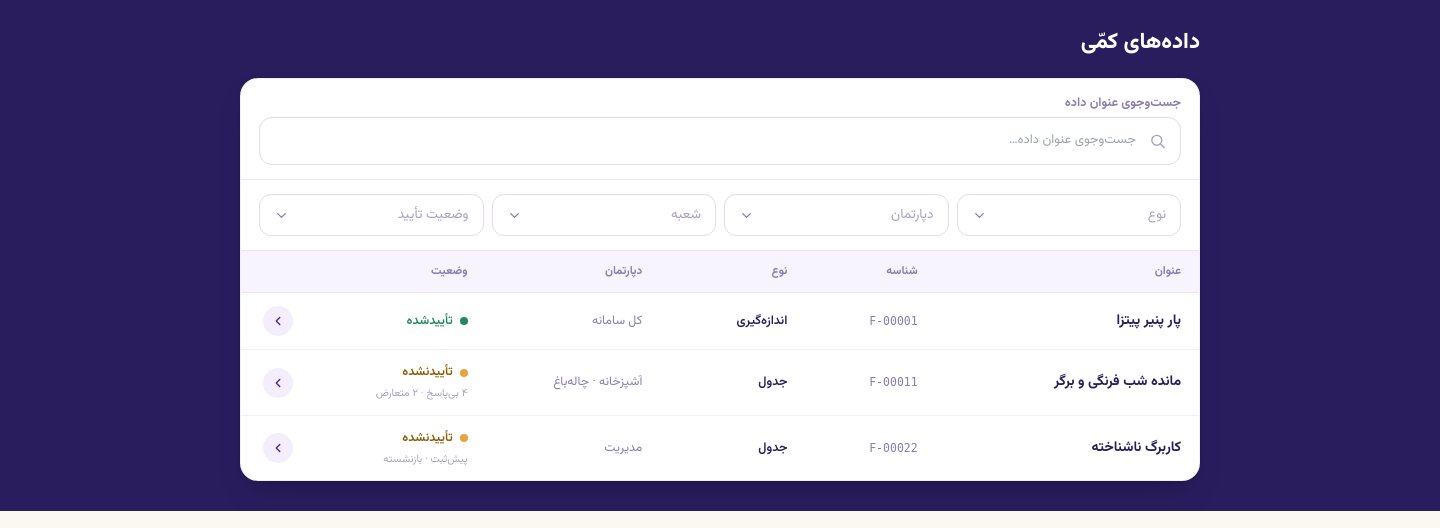
Test: the filters › offers exactly the two confirmation values
The width and height of the screenshot is (1440, 528).
Click the button "وضعیت تأیید" at (371, 215), box [259,194,484,236]
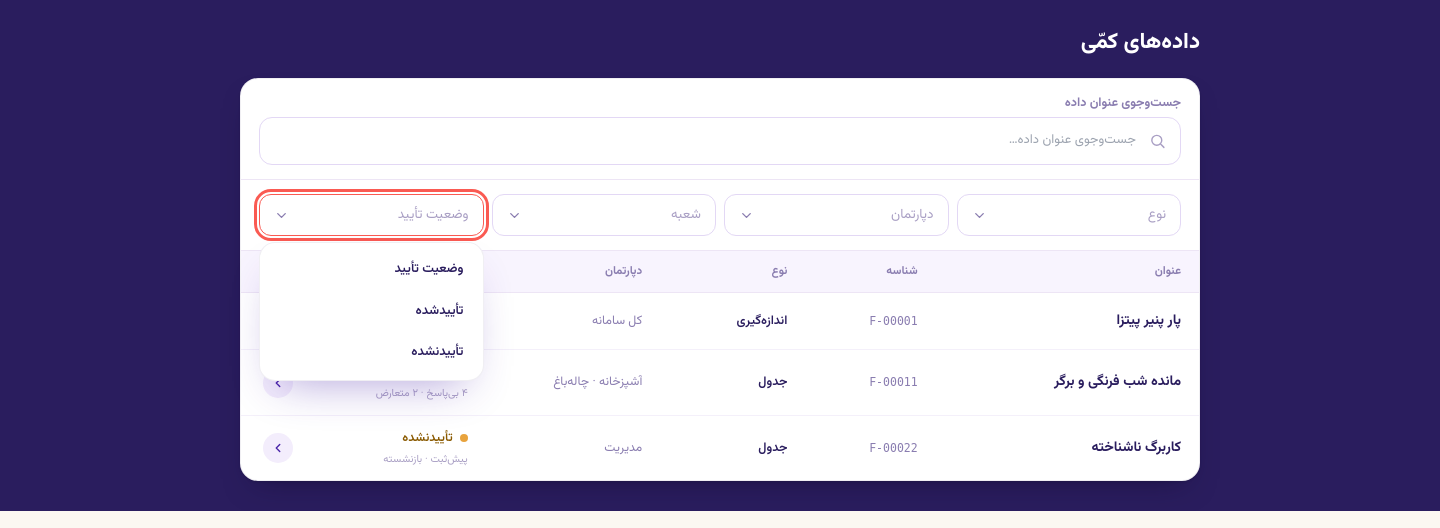
Expected: the options read "وضعیت تأیید", "تأییدشده", "تأییدنشده", in this order, [267,250,476,290]; [267,292,476,331]; [267,333,476,373]
